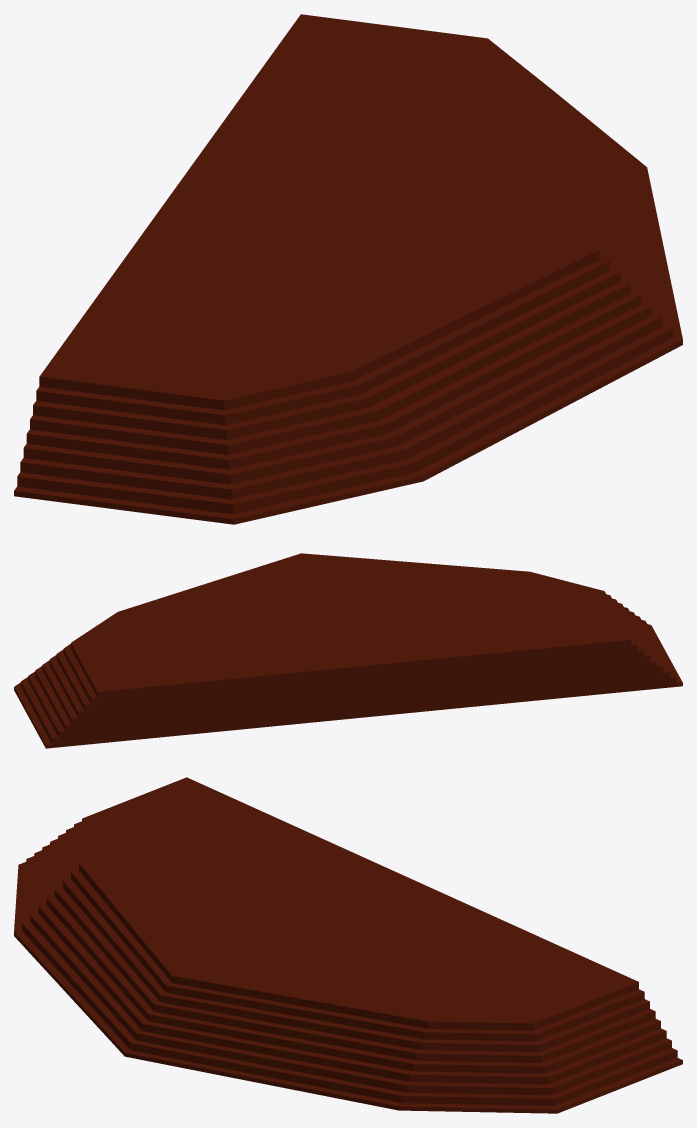
Rendered from church podium.fbx.
3 views of the same model, one above another, from view 1: azimuth 30°, elevation 25°; view 2: azimuth 150°, elevation 25°; view 3: azimuth 270°, elevation 25° (orthographic). The views are drawn at different scales.
Parts seen in each view (by area): view 1: Cube; view 2: Cube; view 3: Cube.
Boxes of the visible parts, x1,y1,x2,y2 form: Cube: [14, 14, 682, 524]; Cube: [14, 553, 682, 748]; Cube: [14, 777, 682, 1113].
Size of the model in its own units: 1684 by 167 by 1620.
